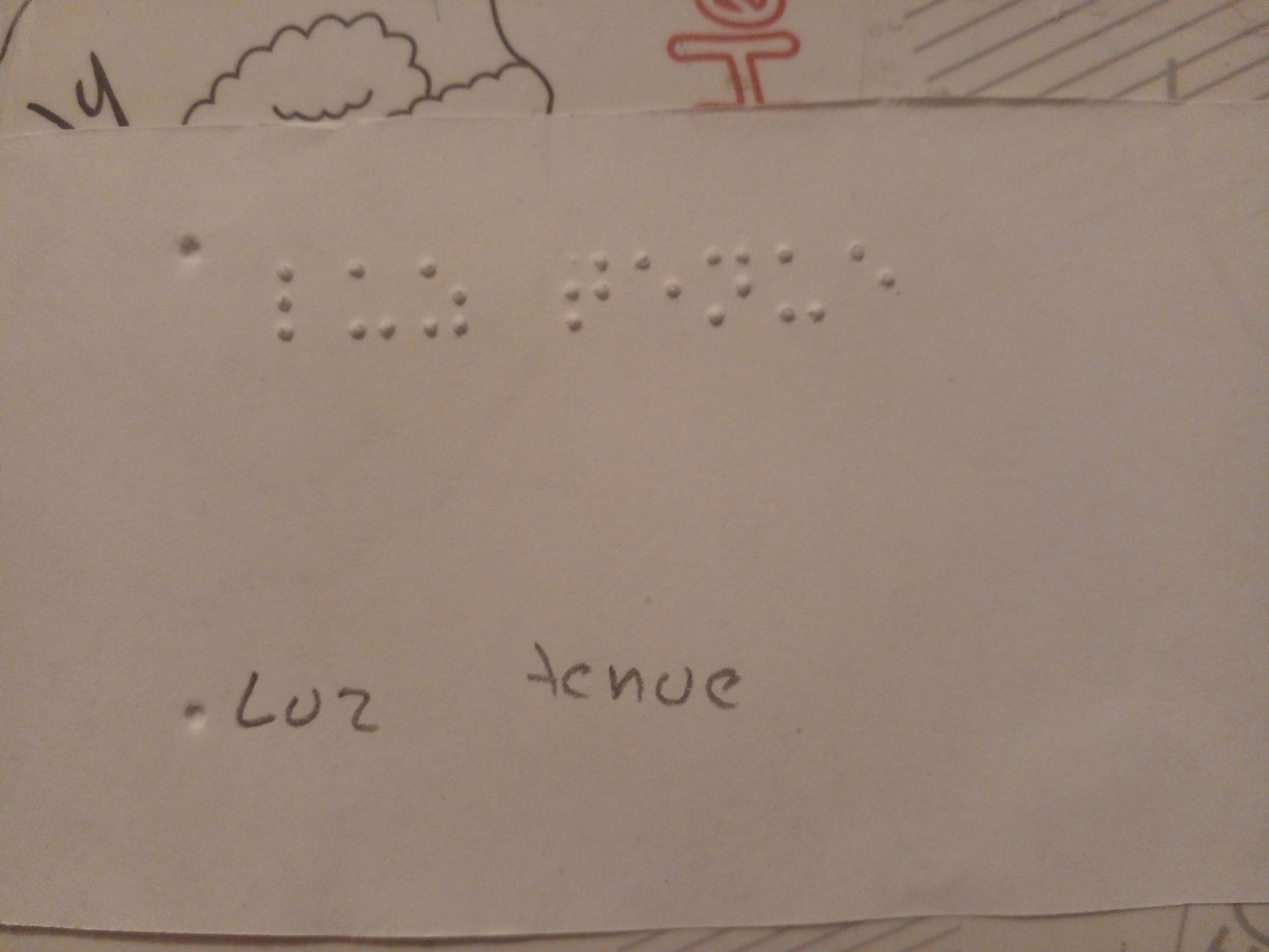e: (626, 239, 682, 335), (849, 236, 903, 304)
l: (266, 246, 319, 358)
n: (689, 246, 764, 333)
t: (541, 243, 618, 347)
u: (768, 243, 841, 339), (333, 256, 401, 358)
z: (414, 259, 477, 359)
